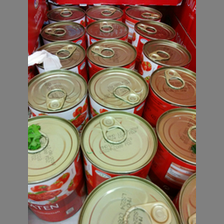tomato_sauce: (28, 115, 85, 224), (82, 110, 158, 185)
